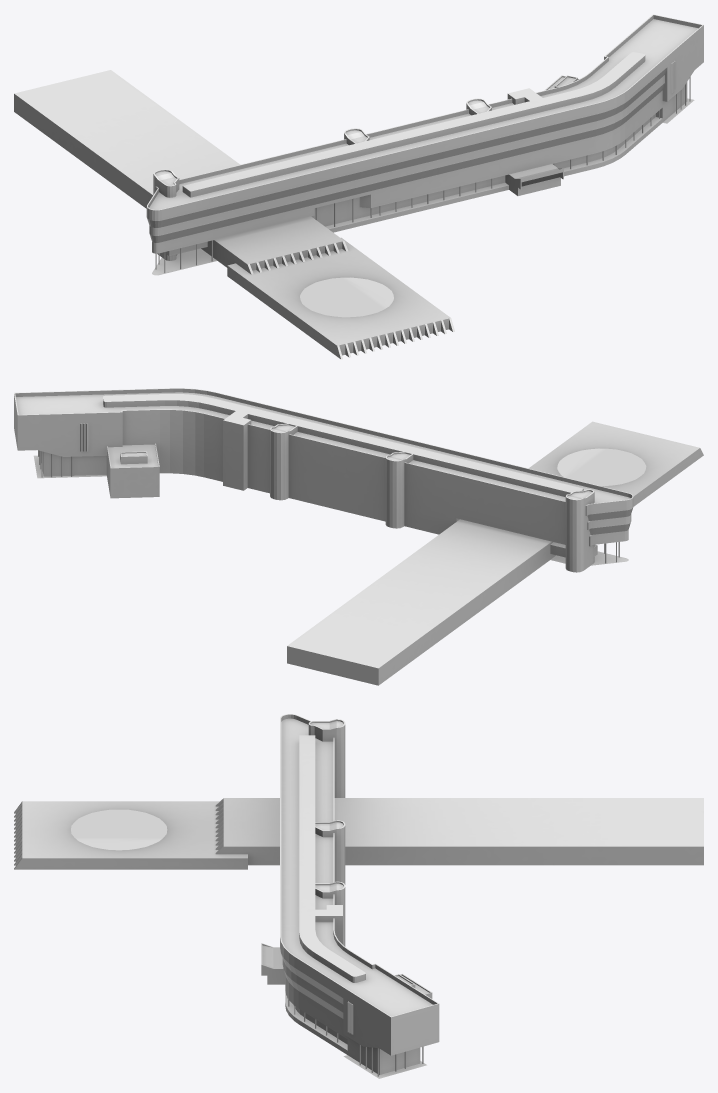
File: cniirtk.dae
3 views of the same model, one above another, from view 1: azimuth 30°, elevation 25°; view 2: azimuth 150°, elevation 25°; view 3: azimuth 270°, elevation 25° (orthographic). The views are drawn at different scales.
Visible parts, largest first — view 1: cniirtk; view 2: cniirtk; view 3: cniirtk.
Boxes of the visible parts, x1,y1,x2,y2 form: cniirtk: [14, 14, 703, 359]; cniirtk: [14, 388, 703, 685]; cniirtk: [14, 714, 703, 1078].
Bounding box in the file's own units: 0.3618 × 0.3478 × 0.0437.
Materials: 1 (1 with a texture image).
